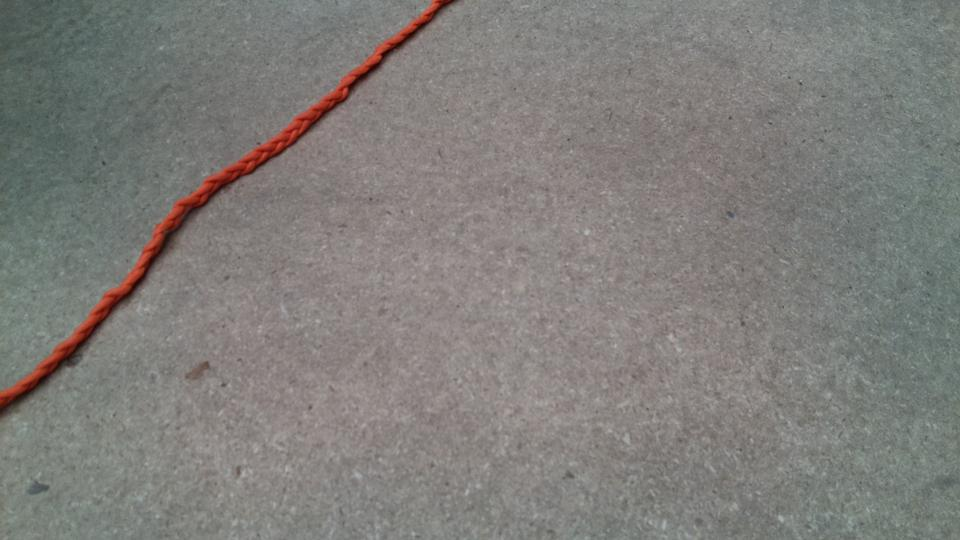rope: (1, 1, 433, 398)
